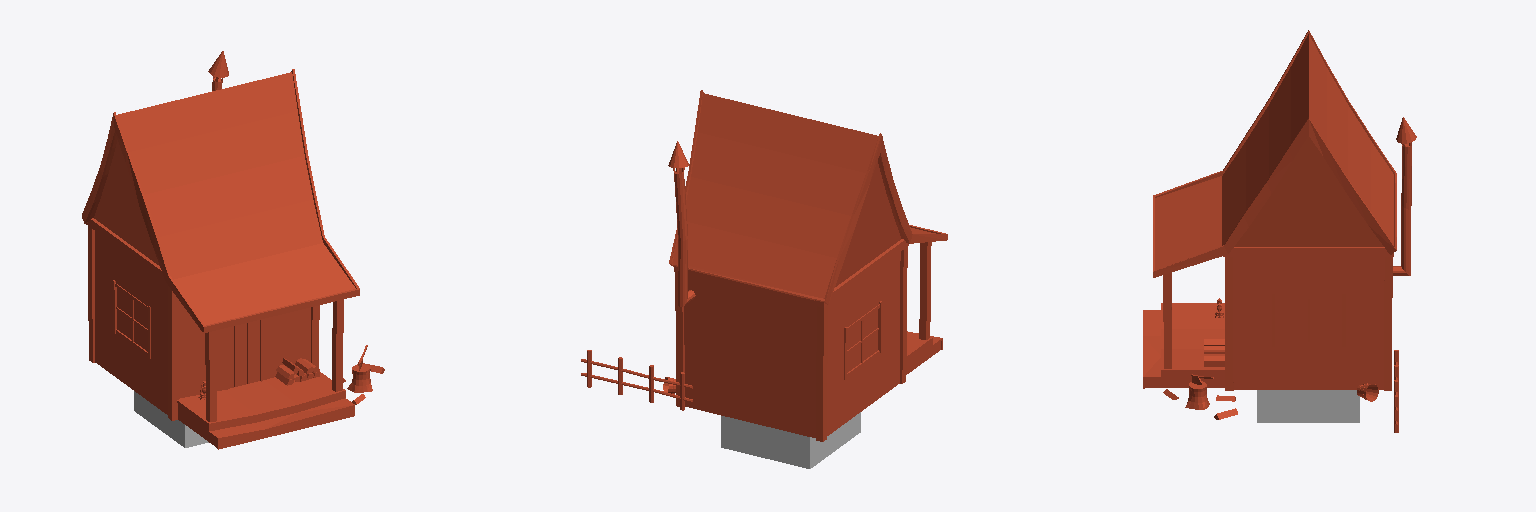
The model's file is cabin.obj.
3 views of the same model, side by side, from view 1: azimuth 30°, elevation 25°; view 2: azimuth 150°, elevation 25°; view 3: azimuth 270°, elevation 25° (orthographic).
Parts seen in each view (by area): view 1: Plane.003_Plane.002, Cube; view 2: Plane.003_Plane.002, Cube; view 3: Plane.003_Plane.002, Cube.
Part boxes in pixels (left/top/right/bottom): Plane.003_Plane.002: left=82, top=51, right=384, bottom=449; Cube: left=134, top=391, right=208, bottom=447; Plane.003_Plane.002: left=581, top=90, right=947, bottom=441; Cube: left=721, top=412, right=860, bottom=468; Plane.003_Plane.002: left=1143, top=30, right=1416, bottom=432; Cube: left=1257, top=390, right=1359, bottom=422.
Size of the model in its own units: 5.78 by 7.07 by 5.35.